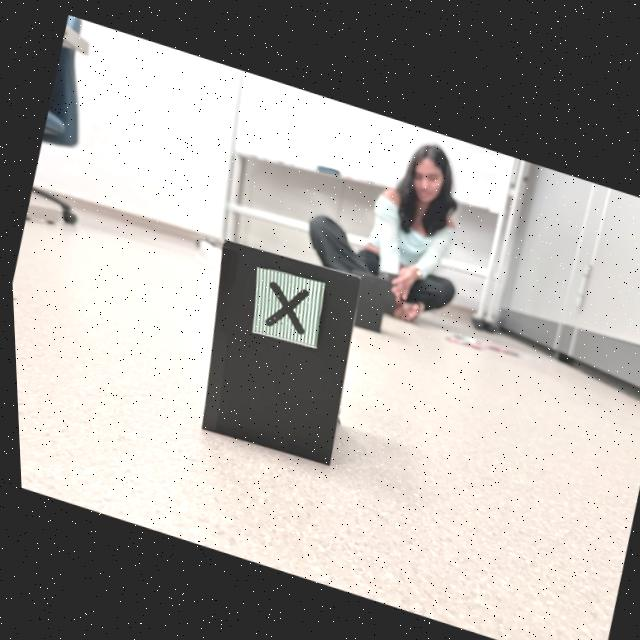X: (262, 277, 305, 329)
